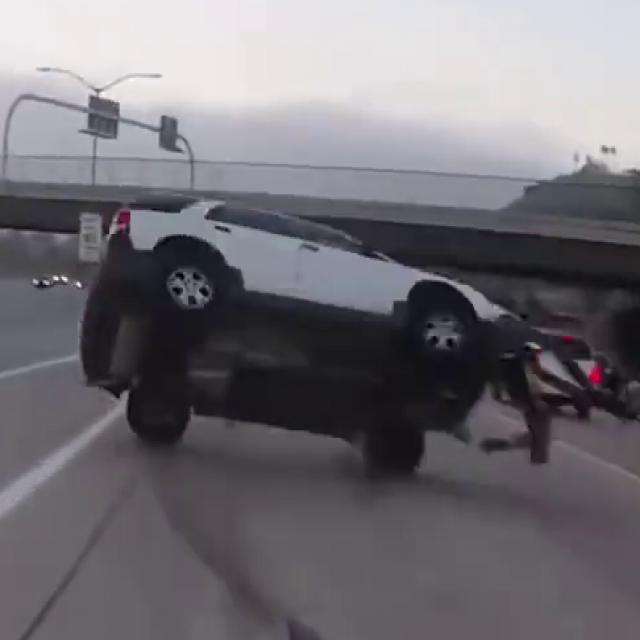accident: (68, 188, 504, 497)
